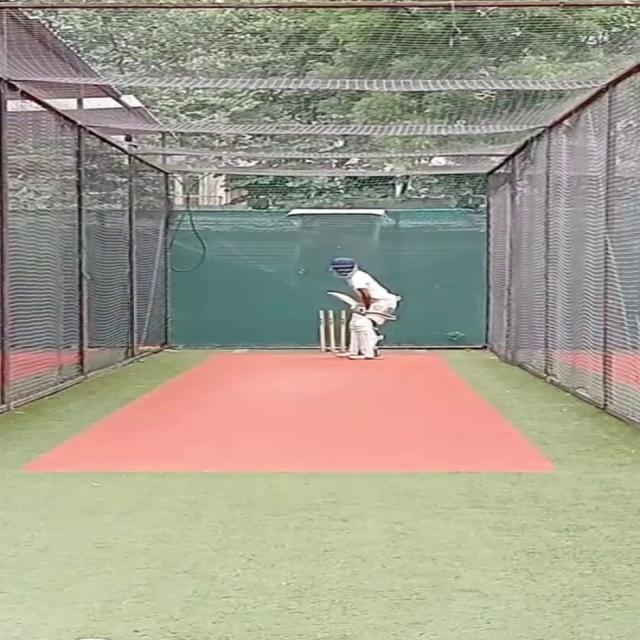stump: (314, 308, 347, 352)
